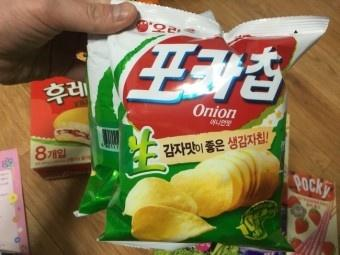snack: (96, 0, 331, 252)
